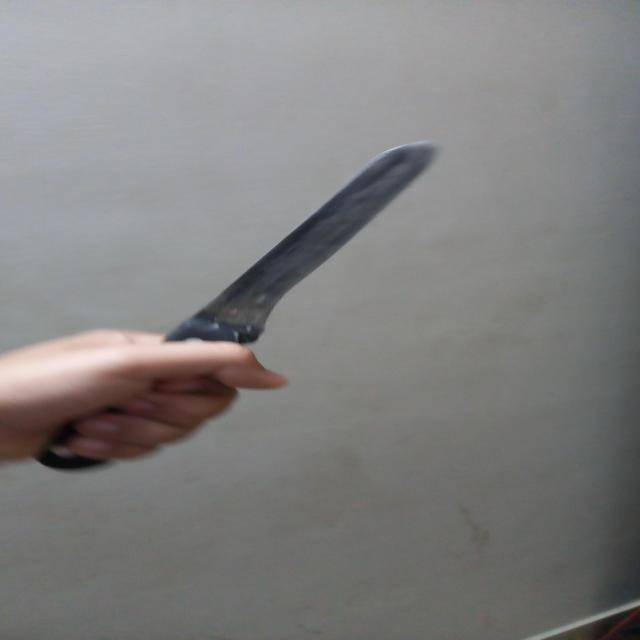Knife: (32, 142, 444, 472)
Person: (0, 330, 292, 464)
